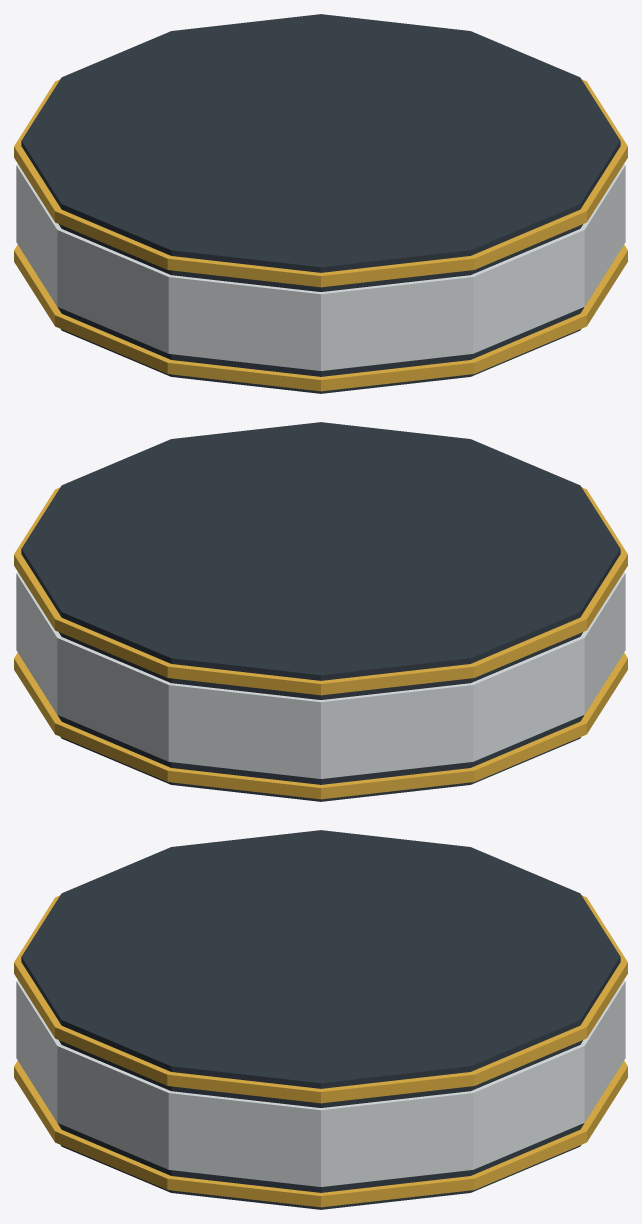
File: perilune-cell-bank-m.glb
The picture shows the model from 3 angles, top to bottom: view 1: azimuth 30°, elevation 25°; view 2: azimuth 150°, elevation 25°; view 3: azimuth 270°, elevation 25°; orthographic projection.
Parts seen in each view (by area): view 1: SM_Power_CellBankM_Core, SM_Power_CellBankM_Shell, SM_Power_CellBankM_BusBottom; view 2: SM_Power_CellBankM_Core, SM_Power_CellBankM_Shell, SM_Power_CellBankM_BusBottom; view 3: SM_Power_CellBankM_Core, SM_Power_CellBankM_Shell, SM_Power_CellBankM_BusBottom.
Boxes of the visible parts, x1=… form: SM_Power_CellBankM_Core: x1=21, y1=14, x2=620, y2=393; SM_Power_CellBankM_Shell: x1=16, y1=164, x2=625, y2=370; SM_Power_CellBankM_BusBottom: x1=14, y1=79, x2=627, y2=391; SM_Power_CellBankM_Core: x1=21, y1=422, x2=620, y2=801; SM_Power_CellBankM_Shell: x1=16, y1=572, x2=625, y2=778; SM_Power_CellBankM_BusBottom: x1=14, y1=487, x2=627, y2=799; SM_Power_CellBankM_Core: x1=21, y1=830, x2=620, y2=1209; SM_Power_CellBankM_Shell: x1=16, y1=980, x2=625, y2=1186; SM_Power_CellBankM_BusBottom: x1=14, y1=895, x2=627, y2=1207.
Size of the model in its own units: 1.23 by 0.2799 by 1.23.
